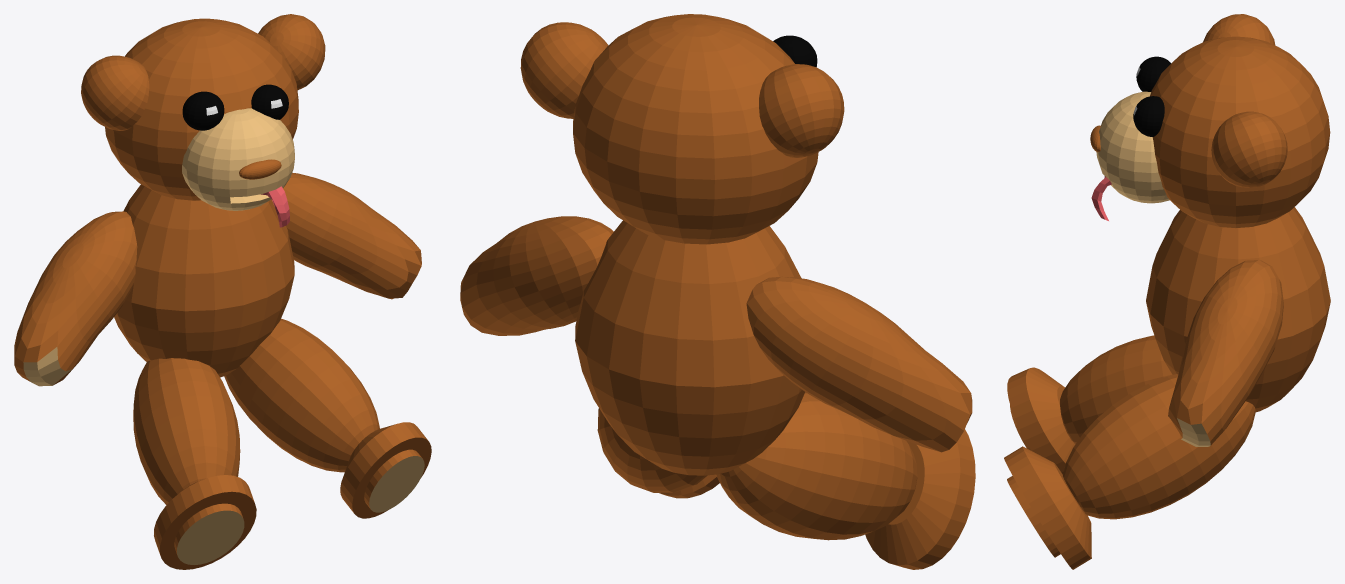
File: Misha.fbx
The picture shows the model from 3 angles, left to right: view 1: azimuth 30°, elevation 25°; view 2: azimuth 150°, elevation 25°; view 3: azimuth 270°, elevation 25°; orthographic projection. The views are drawn at different scales.
Visible parts, largest first — view 1: Sphere.009; view 2: Sphere.009; view 3: Sphere.009.
Boxes of the visible parts, x1,y1,x2,y2 form: Sphere.009: (14, 14, 431, 569); Sphere.009: (460, 14, 975, 569); Sphere.009: (1004, 14, 1330, 569).
Bounding box in the file's own units: 513 × 563 × 347.
